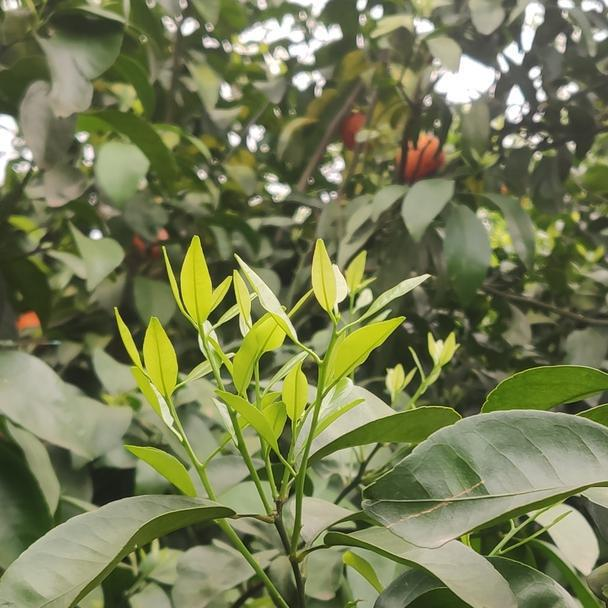shoot: (257, 253, 427, 477), (171, 245, 303, 469), (101, 314, 247, 515)
